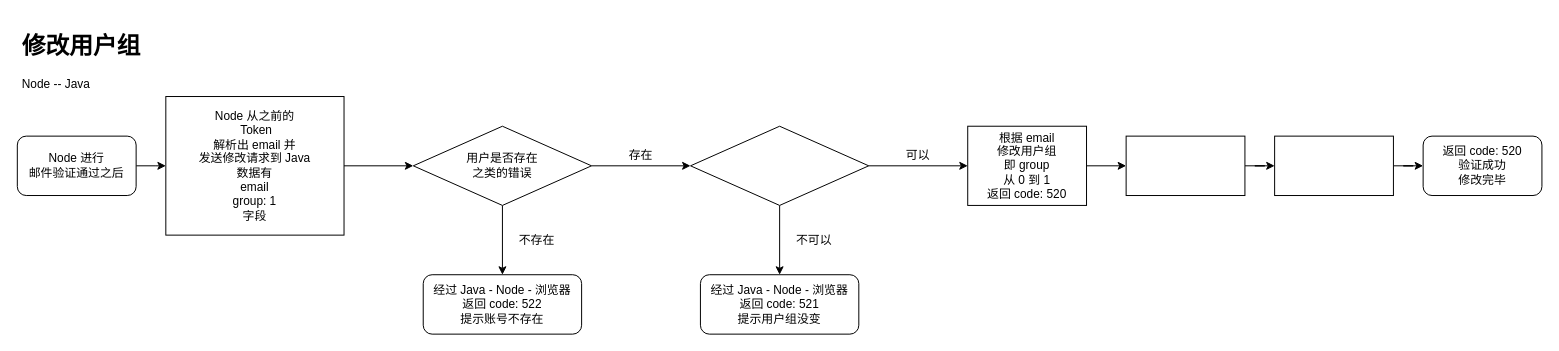
Image size: 1559x351. Some labels were removed from this diagram. Here are the shapes that lost their labels. From the top down, the centre of each, then its label:
At (x=779, y=165): "用户组是否可以变化 （重复验证）".
At (x=1185, y=165): "发回 Node".
At (x=1333, y=165): "发回浏览器".
